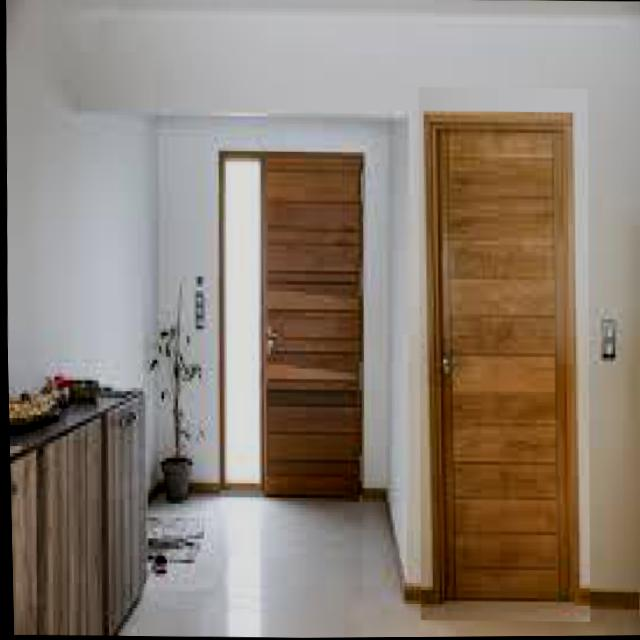close: (409, 86, 597, 624), (248, 113, 377, 514)
